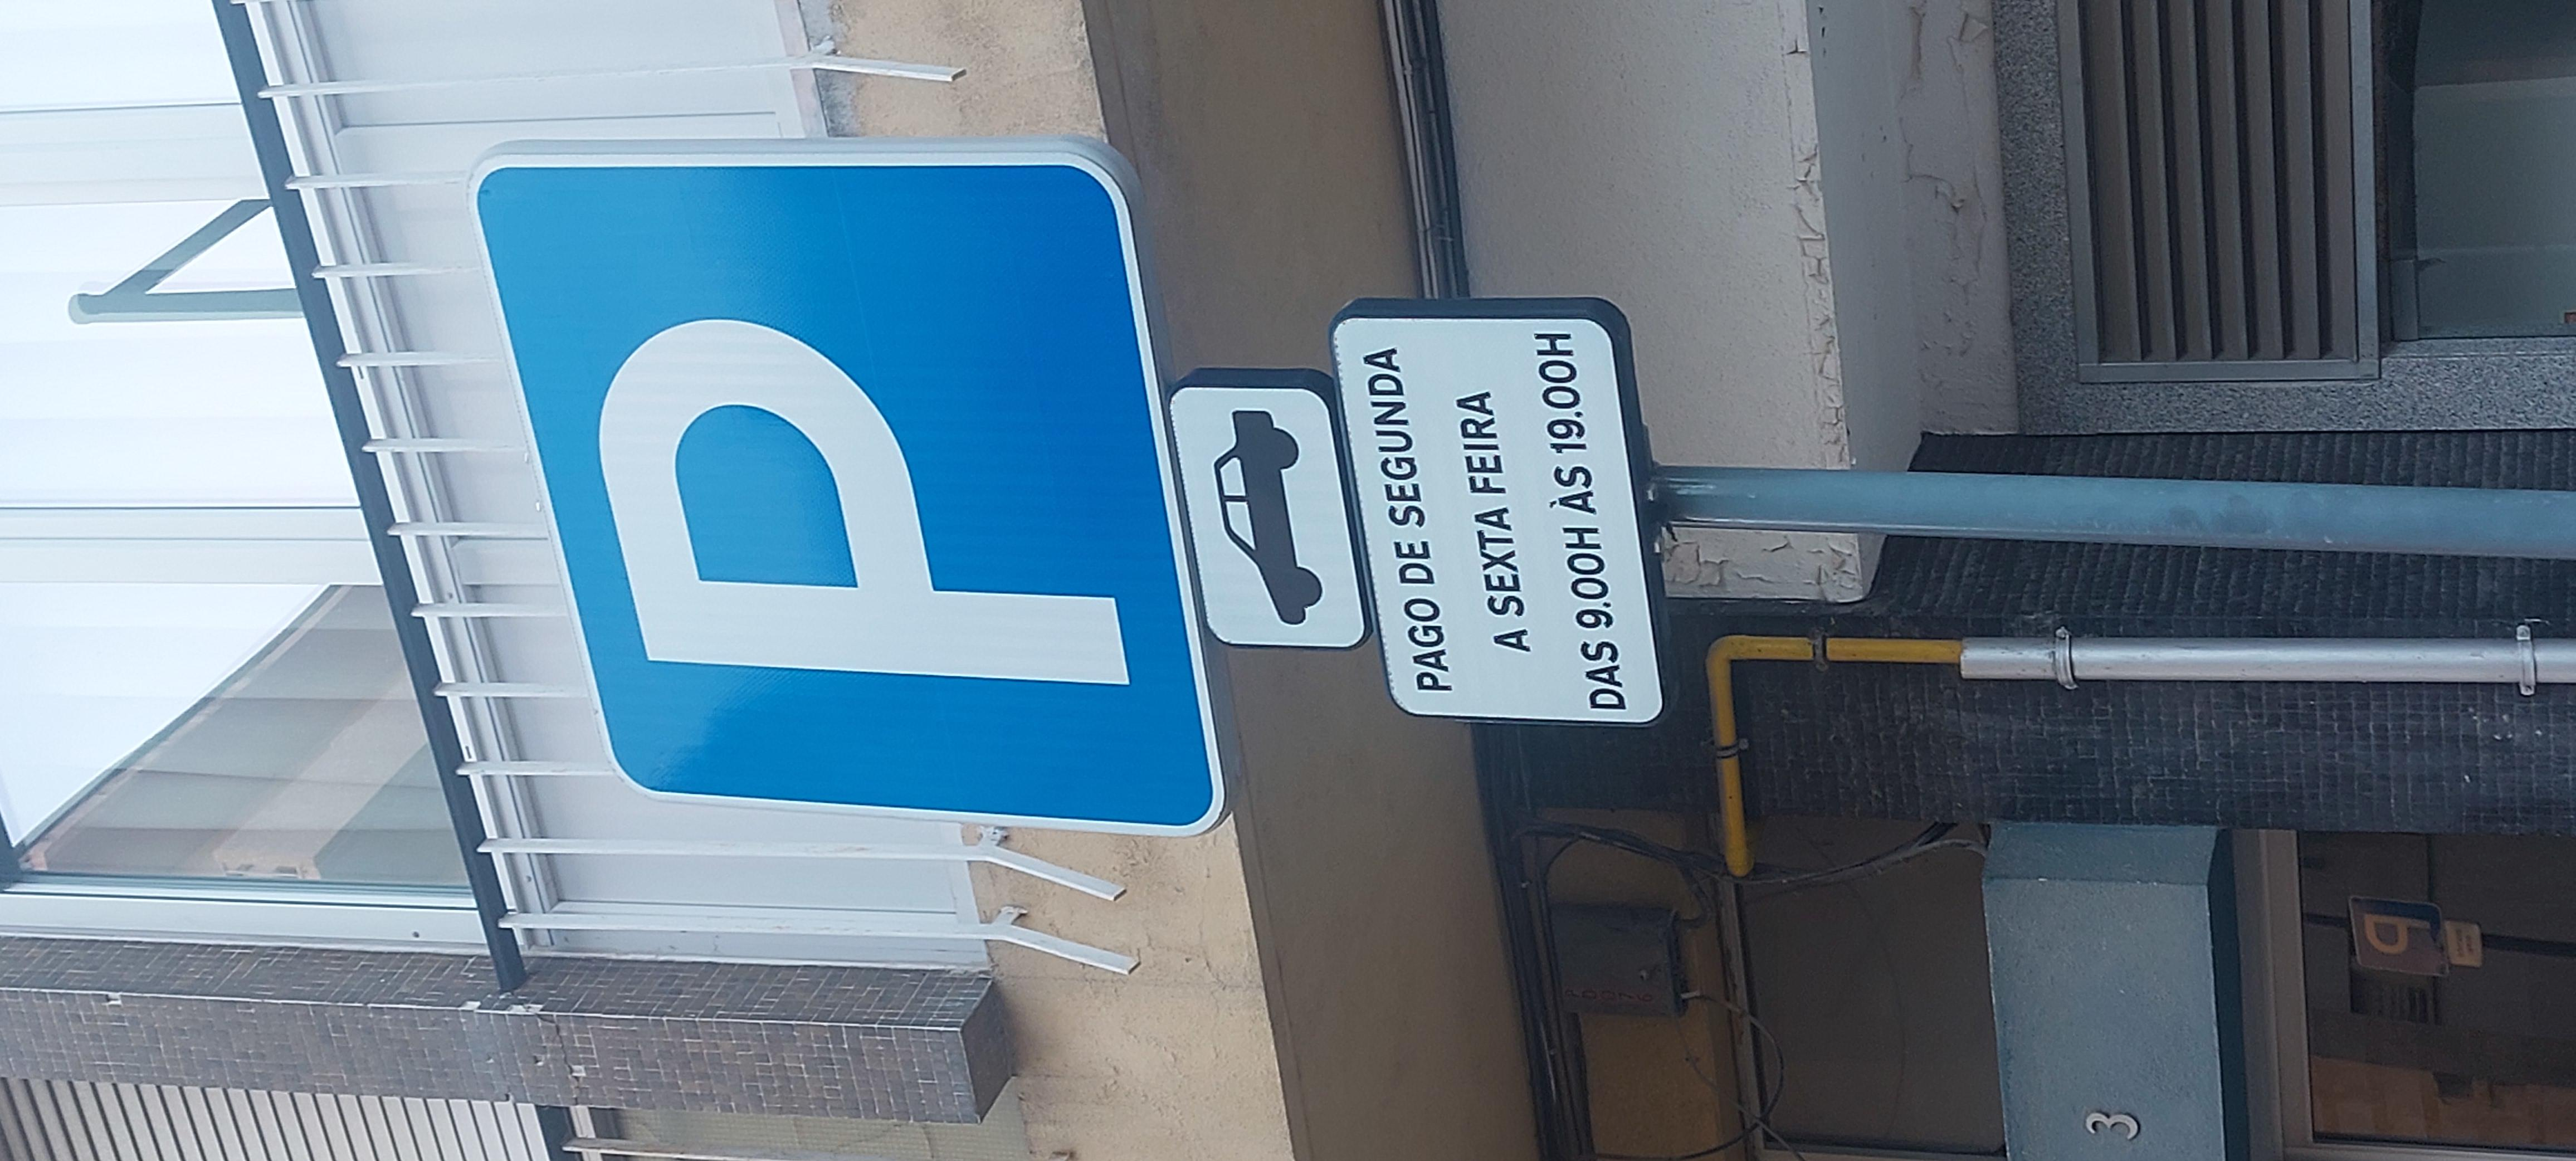Estacionamento autorizado: (522, 212, 2448, 558)
